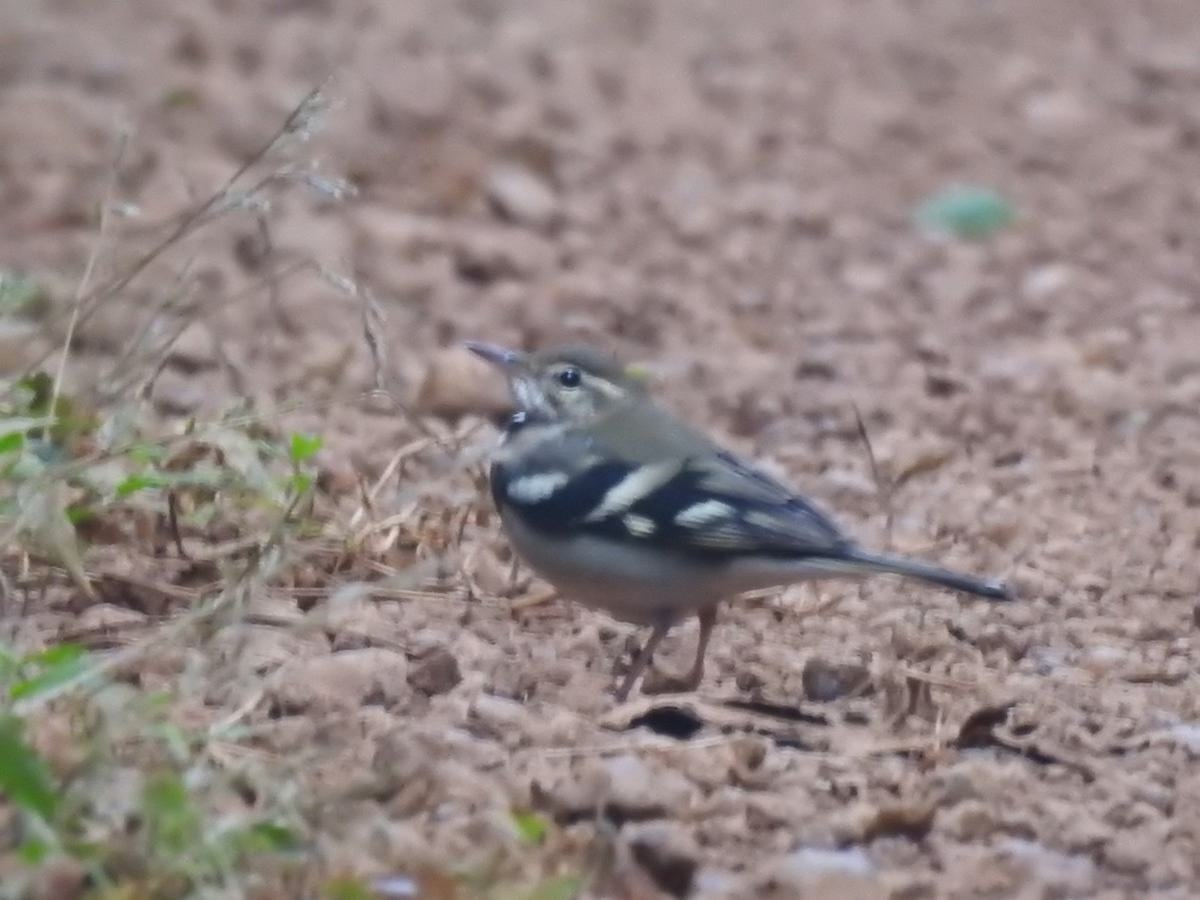wagtail: (471, 316, 871, 657)
